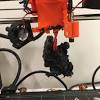fail: (32, 22, 86, 82)
